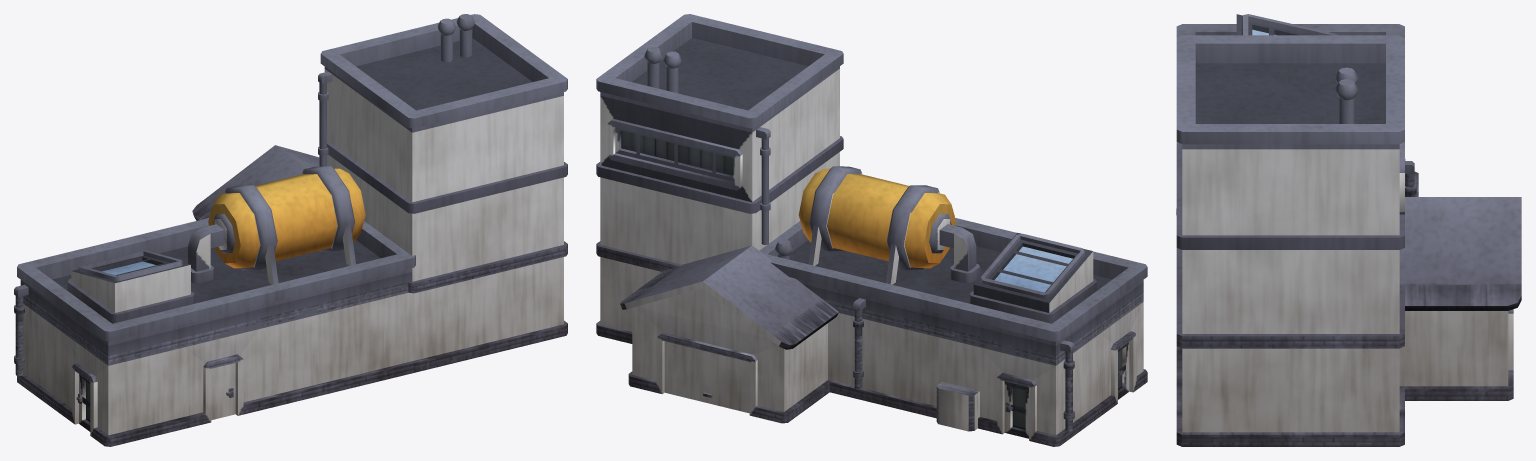
The model's file is building-r-white.glb.
3 views of the same model, side by side, from view 1: azimuth 30°, elevation 25°; view 2: azimuth 150°, elevation 25°; view 3: azimuth 270°, elevation 25° (orthographic). The views are drawn at different scales.
Visible parts, largest first — view 1: building-r; view 2: building-r; view 3: building-r.
Part boxes in pixels (x1,y1,x2,y2): building-r: (14, 14, 567, 446); building-r: (596, 14, 1147, 446); building-r: (1176, 14, 1521, 446).
Size of the model in its own units: 2.48 by 1.39 by 1.27.
1 material, 1 textured.
